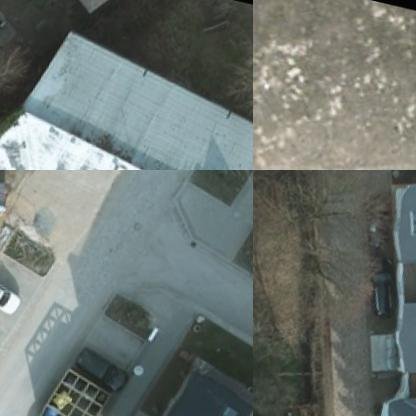car: (68, 347, 132, 399), (353, 259, 404, 324), (0, 277, 21, 320)
